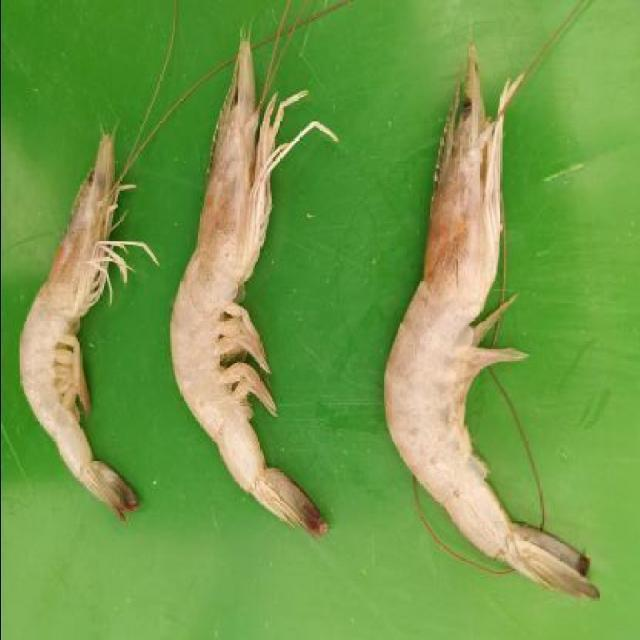shrimp: (381, 60, 581, 600), (174, 37, 311, 523), (21, 126, 118, 510)
